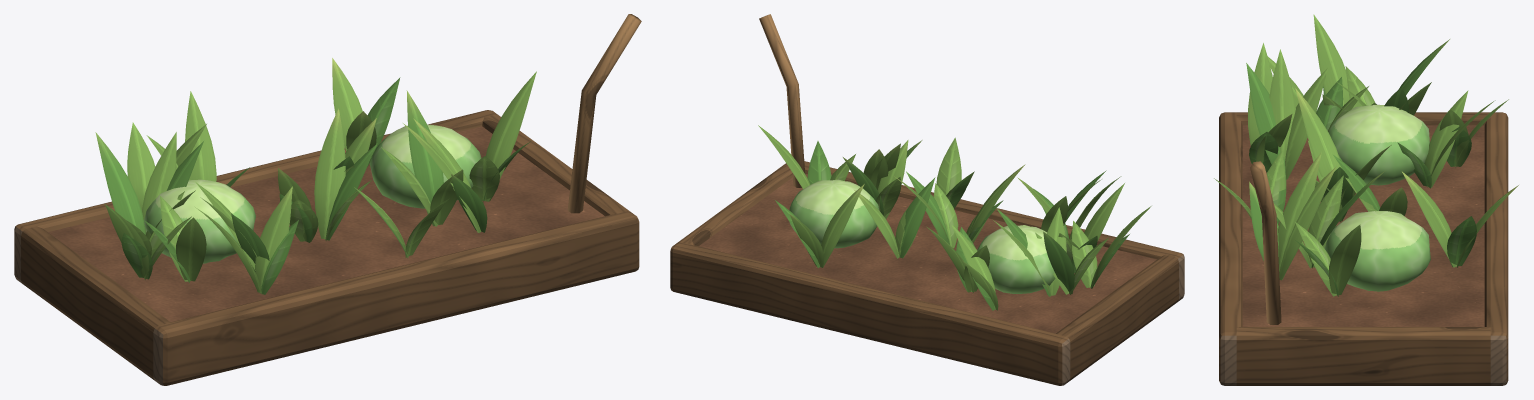
File: wild_bed.glb
3 renders of one model, left to right at view 1: azimuth 30°, elevation 25°; view 2: azimuth 150°, elevation 25°; view 3: azimuth 270°, elevation 25°, orthographic. The views are drawn at different scales.
Parts seen in each view (by area): view 1: WildBed; view 2: WildBed; view 3: WildBed.
Part boxes in pixels (box(x1,y1,x2,y2)): WildBed: box(14, 14, 641, 385); WildBed: box(670, 14, 1184, 385); WildBed: box(1214, 14, 1518, 385).
Bounding box in the file's own units: 1.9 × 0.8627 × 1.04.
Materials: 1 (1 with a texture image).
